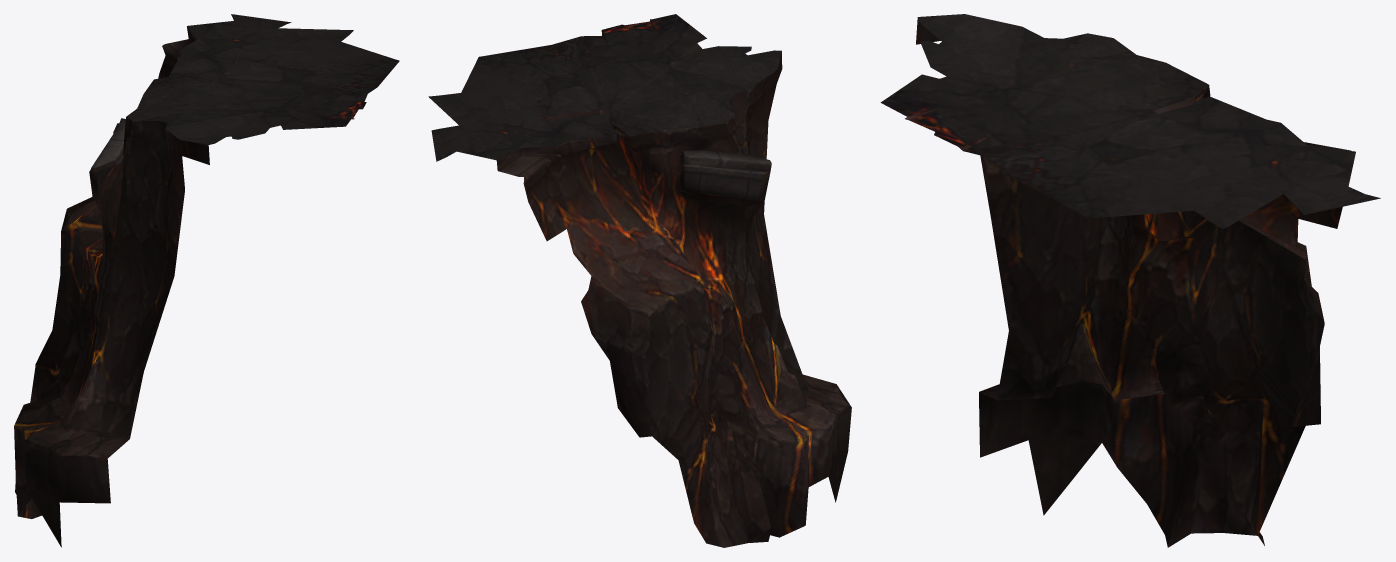
The model's file is S2_Build_XSC106_L16.FBX.
3 renders of one model, left to right at view 1: azimuth 30°, elevation 25°; view 2: azimuth 150°, elevation 25°; view 3: azimuth 270°, elevation 25°, orthographic. The views are drawn at different scales.
Visible parts, largest first — view 1: S2_Build_XSC106_L16; view 2: S2_Build_XSC106_L16; view 3: S2_Build_XSC106_L16.
Part boxes in pixels (x1=…): S2_Build_XSC106_L16: x1=14, y1=14, x2=399, y2=547; S2_Build_XSC106_L16: x1=428, y1=14, x2=851, y2=547; S2_Build_XSC106_L16: x1=880, y1=14, x2=1380, y2=547.
Bounding box in the file's own units: 5050 × 5407 × 4258.
